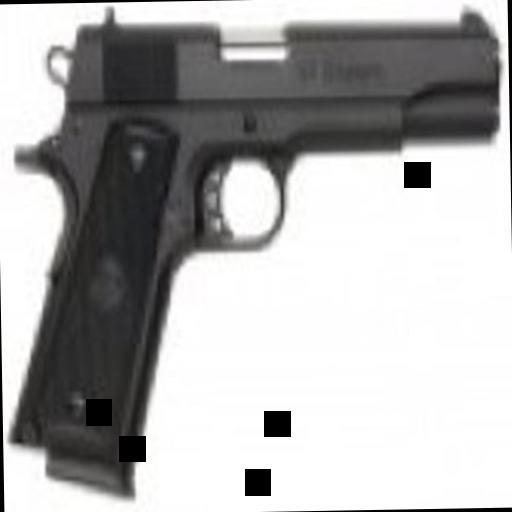Handgun: (1, 0, 505, 493)
